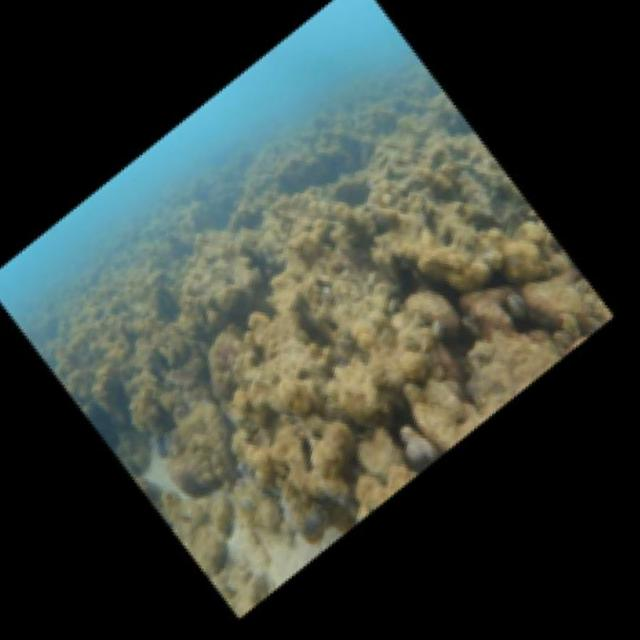Dead Coral: (147, 132, 484, 505)
